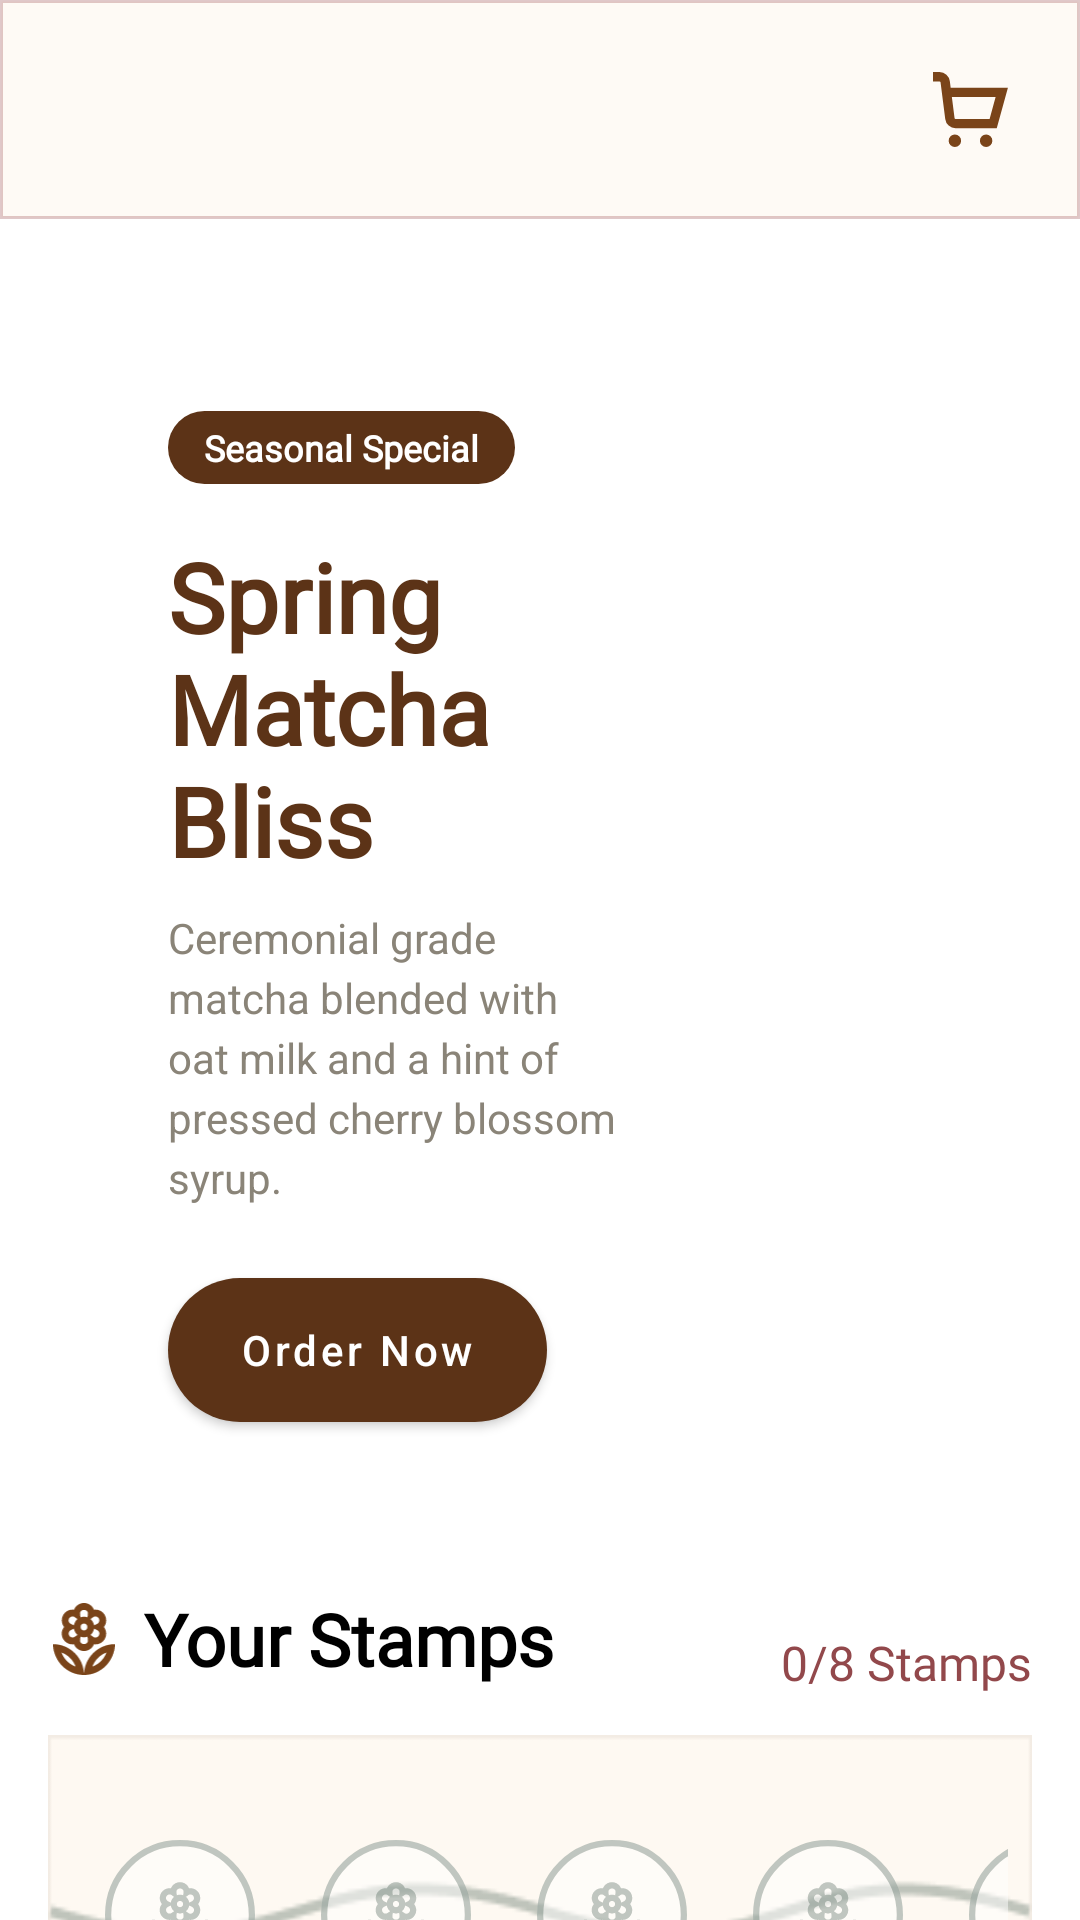

Where to tap for icons on this 1080*1920 app screen, as (x,y):
cart: (970,109)
